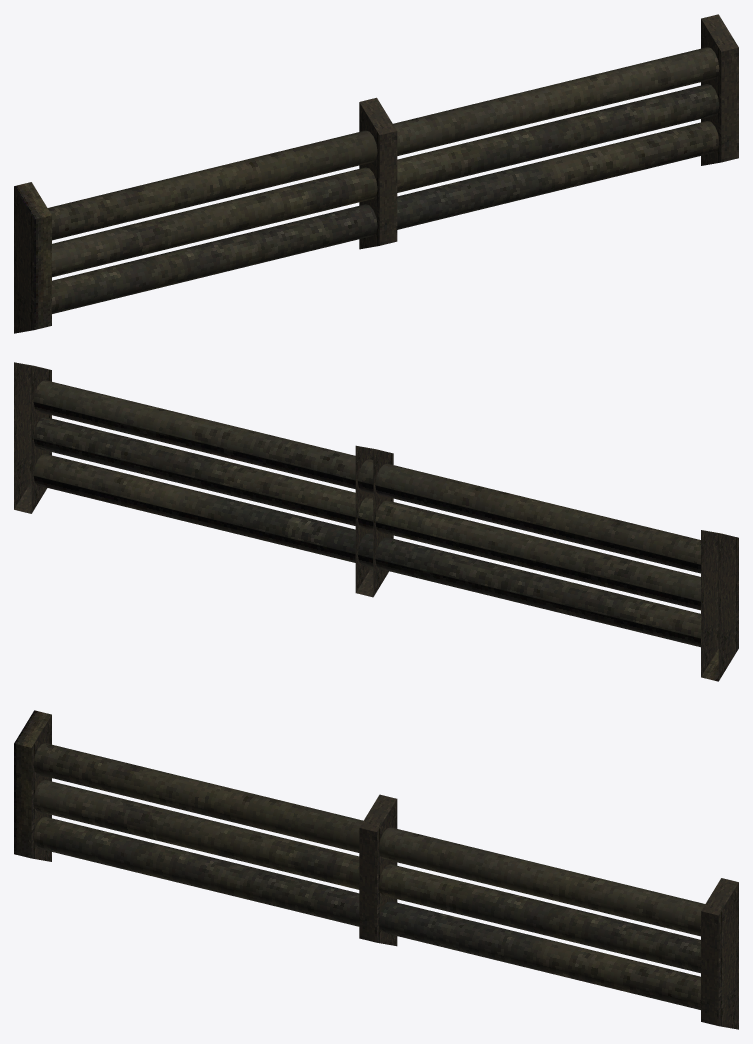
File: pipes_hr_1_horizontal_middle_1.glb
The picture shows the model from 3 angles, top to bottom: view 1: azimuth 30°, elevation 25°; view 2: azimuth 150°, elevation 25°; view 3: azimuth 330°, elevation 25°; orthographic projection.
Visible parts, largest first — view 1: pipes_hr_1_horizontal_middle_1; view 2: pipes_hr_1_horizontal_middle_1; view 3: pipes_hr_1_horizontal_middle_1.
Boxes of the visible parts, x1,y1,x2,y2 form: pipes_hr_1_horizontal_middle_1: (14, 14, 738, 333); pipes_hr_1_horizontal_middle_1: (14, 362, 738, 681); pipes_hr_1_horizontal_middle_1: (14, 710, 738, 1029).
Bounding box in the file's own units: 2 × 0.4 × 0.1.
1 material, 1 textured.
